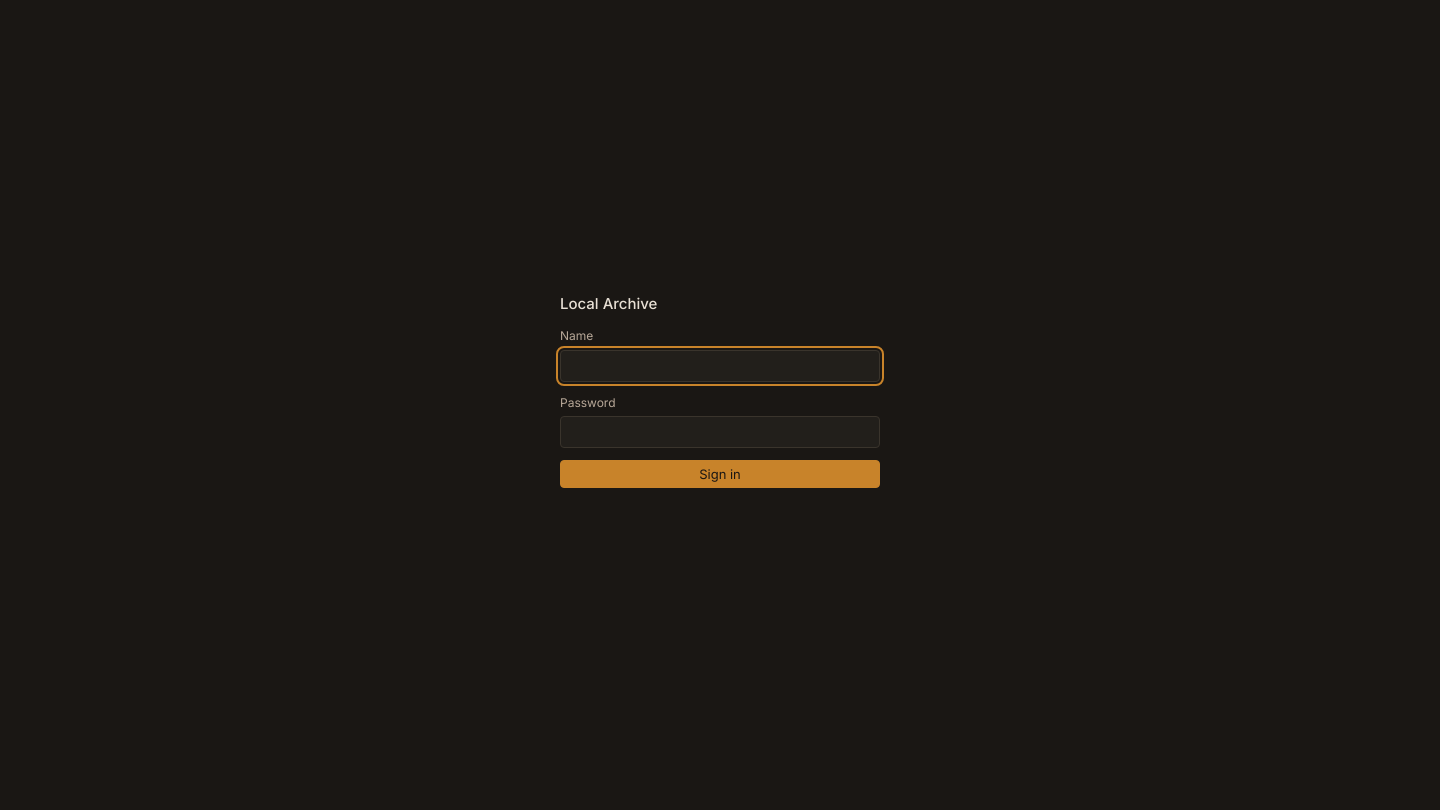
SignIn › empty fields are refused without a request
This screenshot has width=1440, height=810.
Click the button "Sign in" at (720, 474), box [560,460,880,488]
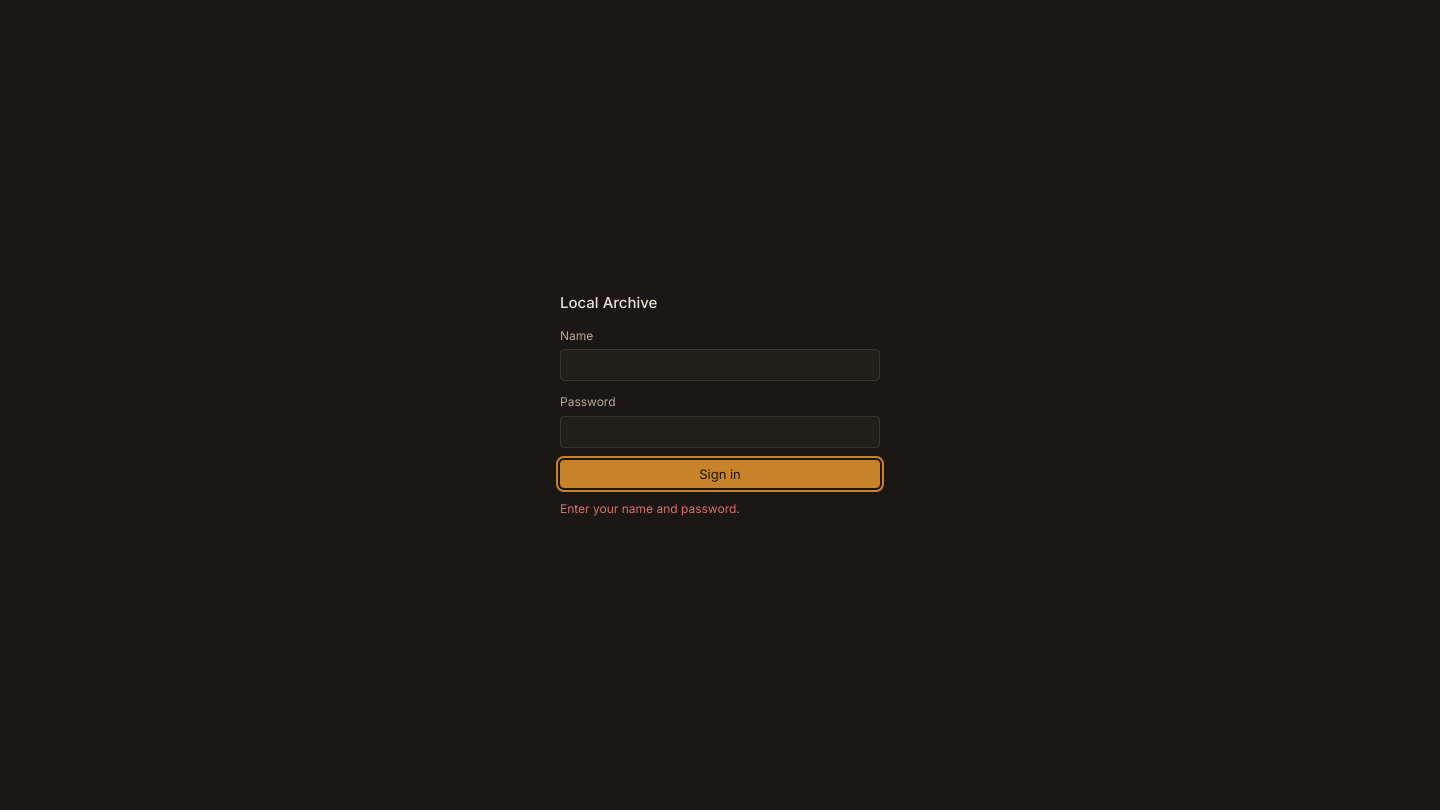
expect the message reads "Enter your name and password.": met, box [560,501,740,516]
